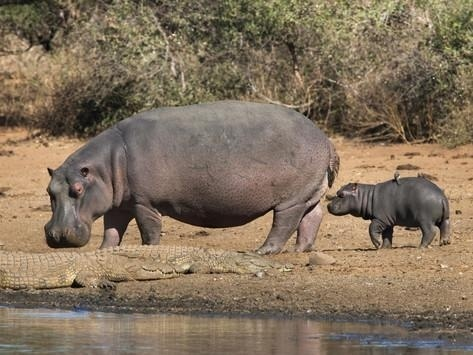hipopotamo: (34, 97, 344, 274), (318, 162, 460, 262)
